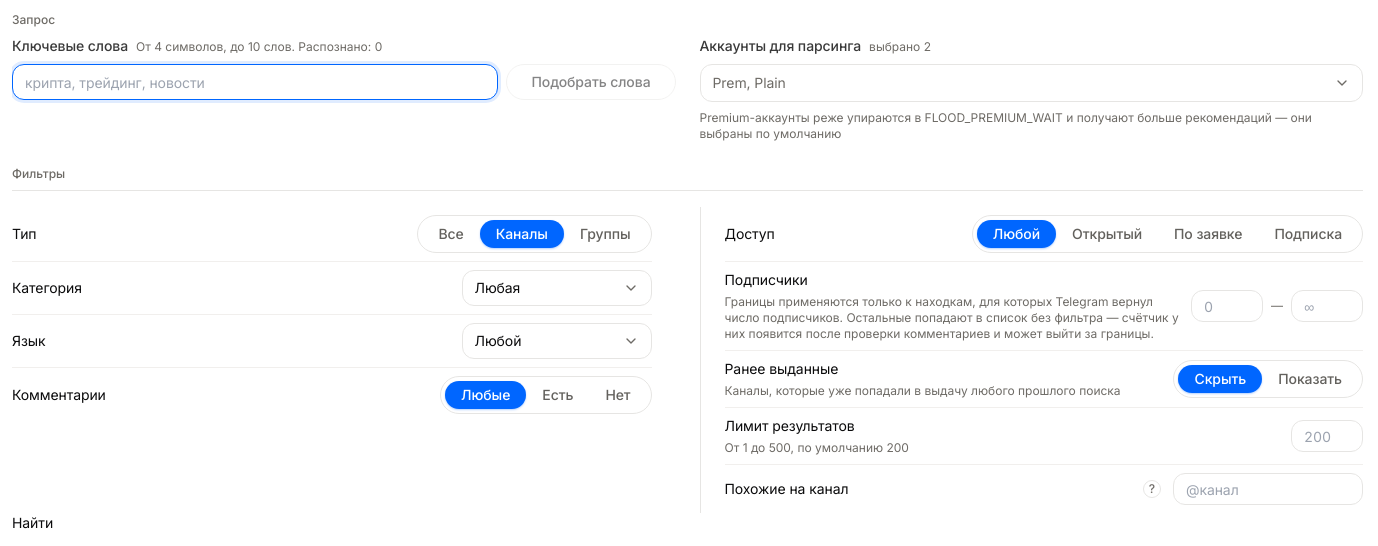
Test: DiscoveryForm › names the tokens it dropped
In the field with placeholder "крипта, трейдинг, новости": [255, 82] box [12,64,498,100], type "crypto ab"
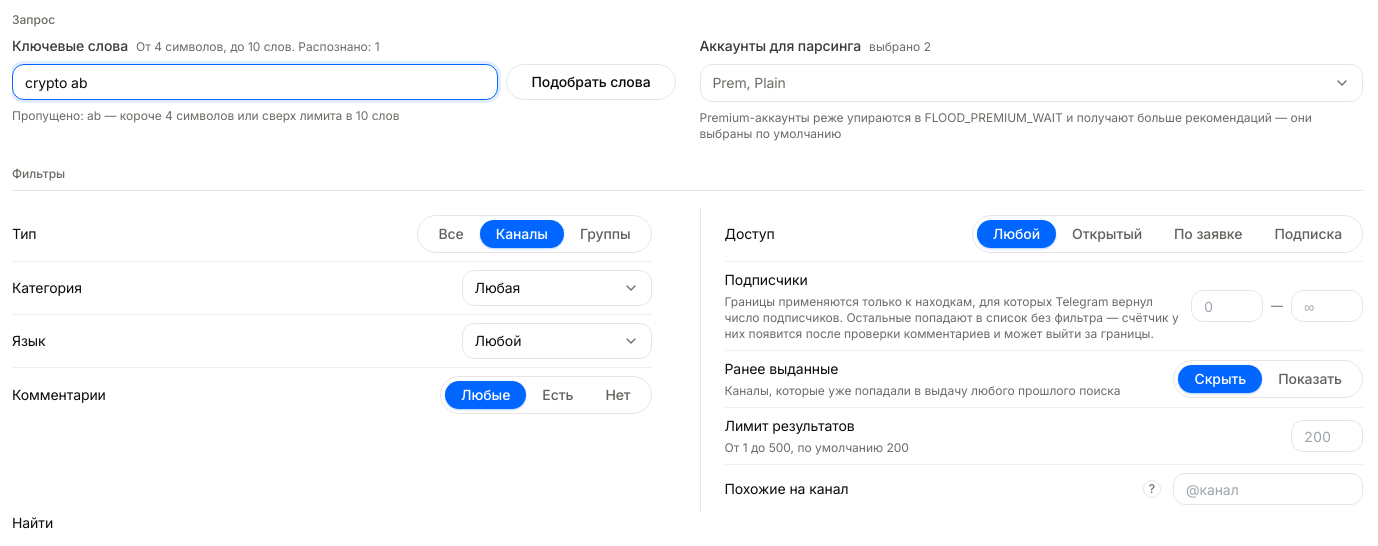
Now the text "Пропущено: ab — короче 4 символов или сверх лимита в 10 слов" is shown, box [12,108,399,123]
